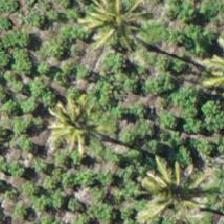coconut_tree: (27, 71, 117, 161), (125, 140, 215, 223), (69, 0, 159, 67)
